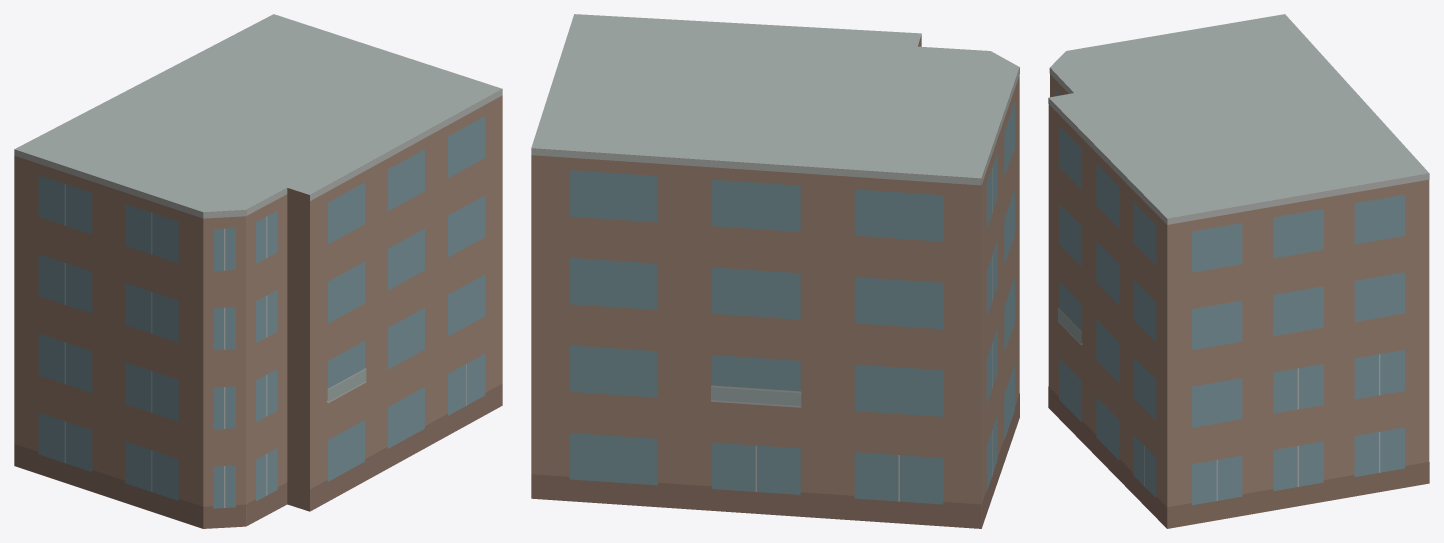
File: survey-upis-32842227.glb
3 views of the same model, side by side, from view 1: azimuth 30°, elevation 25°; view 2: azimuth 150°, elevation 25°; view 3: azimuth 270°, elevation 25° (orthographic). The views are drawn at different scales.
Visible parts, largest first — view 1: survey-upis-32842227.tmp; view 2: survey-upis-32842227.tmp; view 3: survey-upis-32842227.tmp.
Part boxes in pixels (x1=…): survey-upis-32842227.tmp: x1=14, y1=14, x2=502, y2=528; survey-upis-32842227.tmp: x1=531, y1=14, x2=1019, y2=528; survey-upis-32842227.tmp: x1=1048, y1=14, x2=1429, y2=528.
Bounding box in the file's own units: 17.13 × 12.1 × 13.48.
